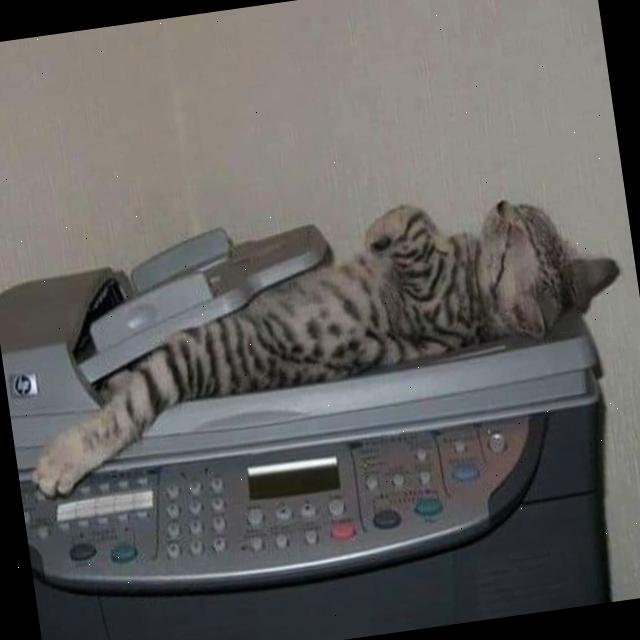cat: (56, 168, 624, 454)
